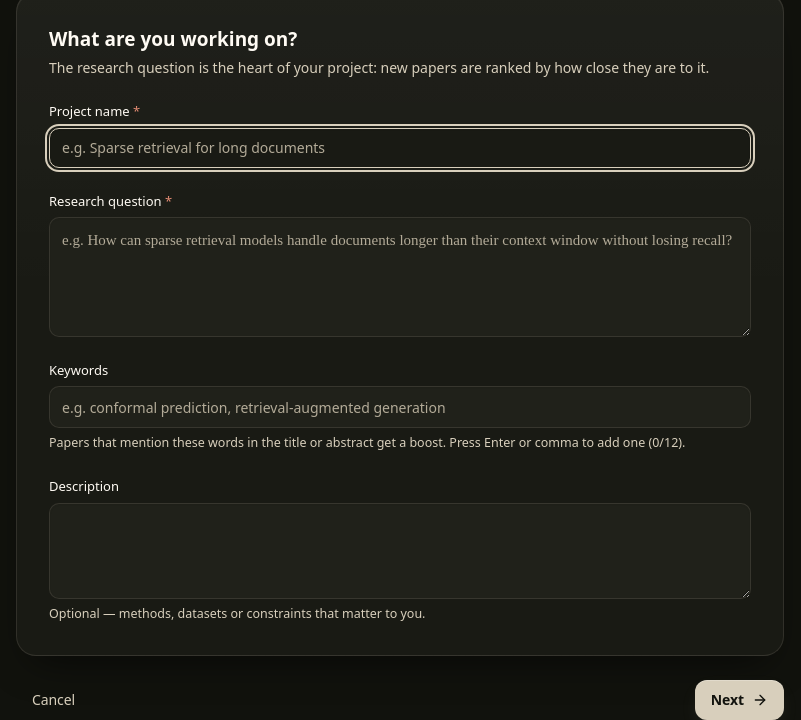
Scenario: NewProjectPage › requires a name and a question before moving on
This screenshot has width=801, height=720.
(page scrolled)
Step 1. Click the button "Next" → point(739, 700), box [695, 680, 784, 719]
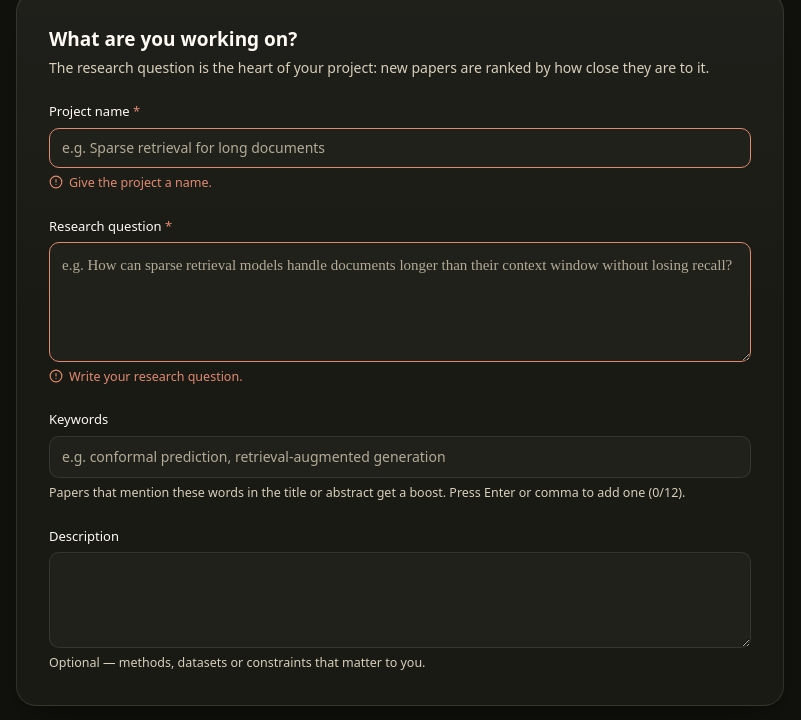
Expected: the heading "What are you working on?" is shown, [49, 26, 297, 52]
Now the text "Give the project a name." is shown, box [69, 174, 212, 193]
Now the text "Write your research question." is shown, box [69, 368, 242, 386]
